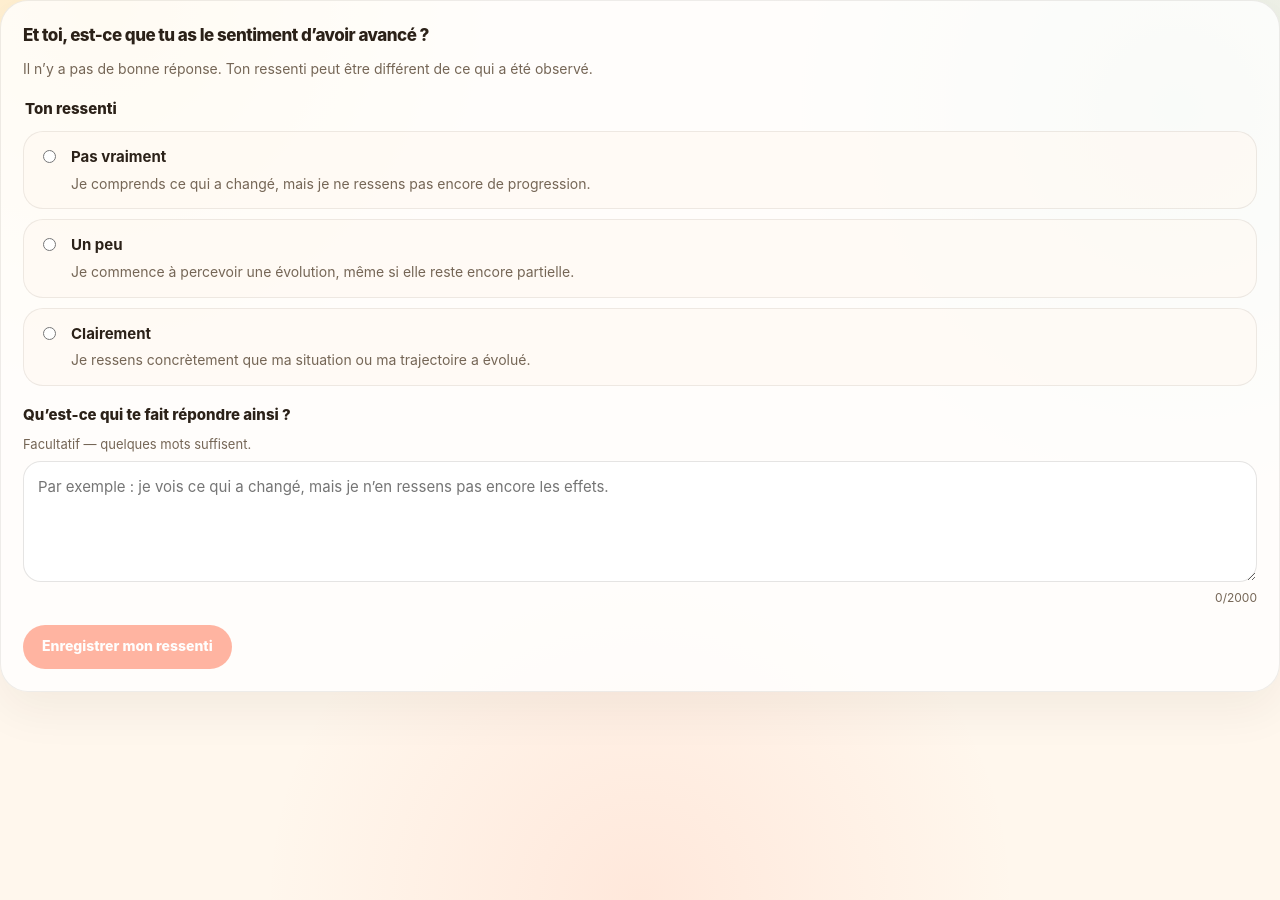
Test case: ProgressExperienceForm › surfaces submit errors locally without changing the selected response
Click the radio button labelled "Pas vraiment": (50, 156) top-left (43, 150), bottom-right (56, 163)
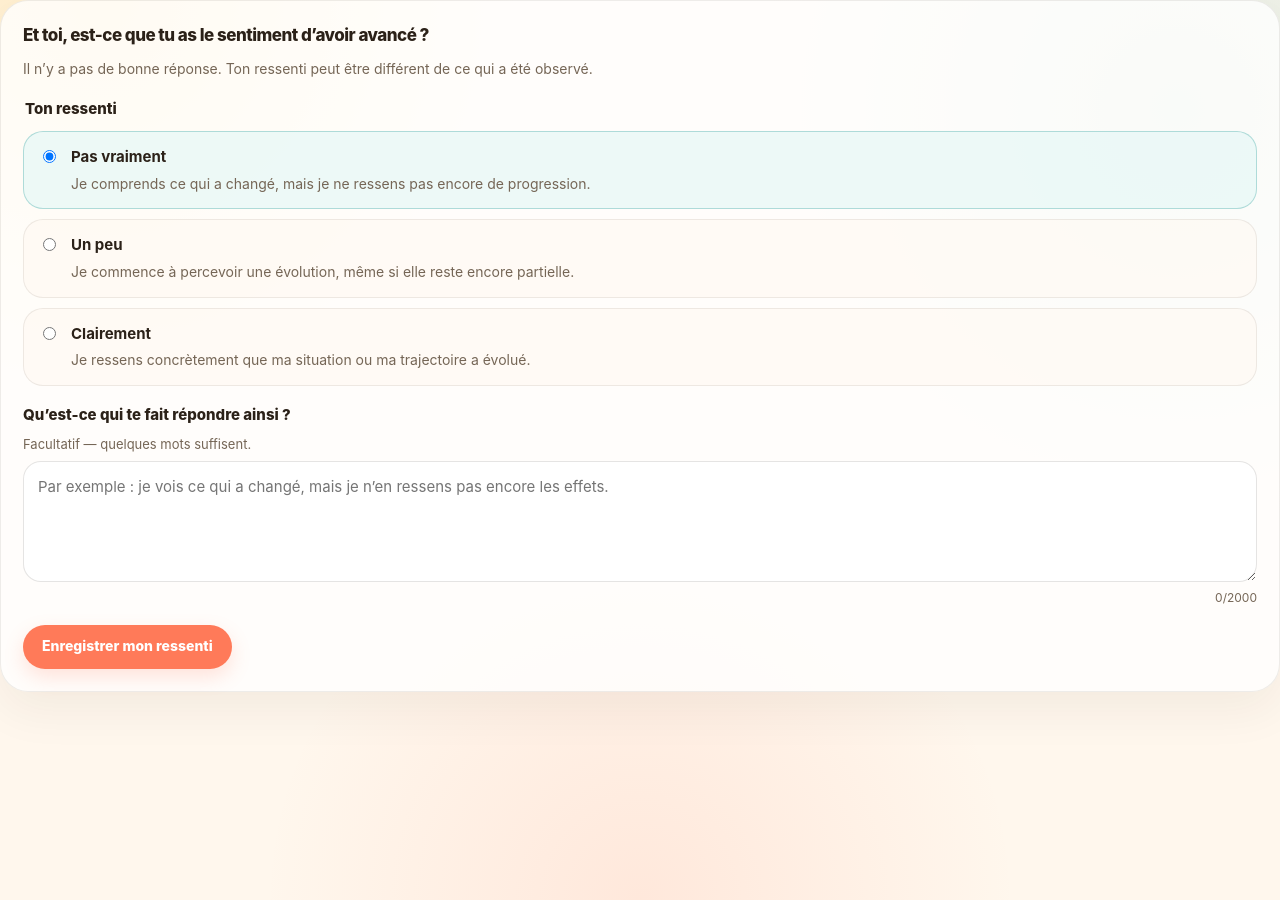
Click the button "Enregistrer mon ressenti": (127, 647) top-left (23, 625), bottom-right (232, 669)
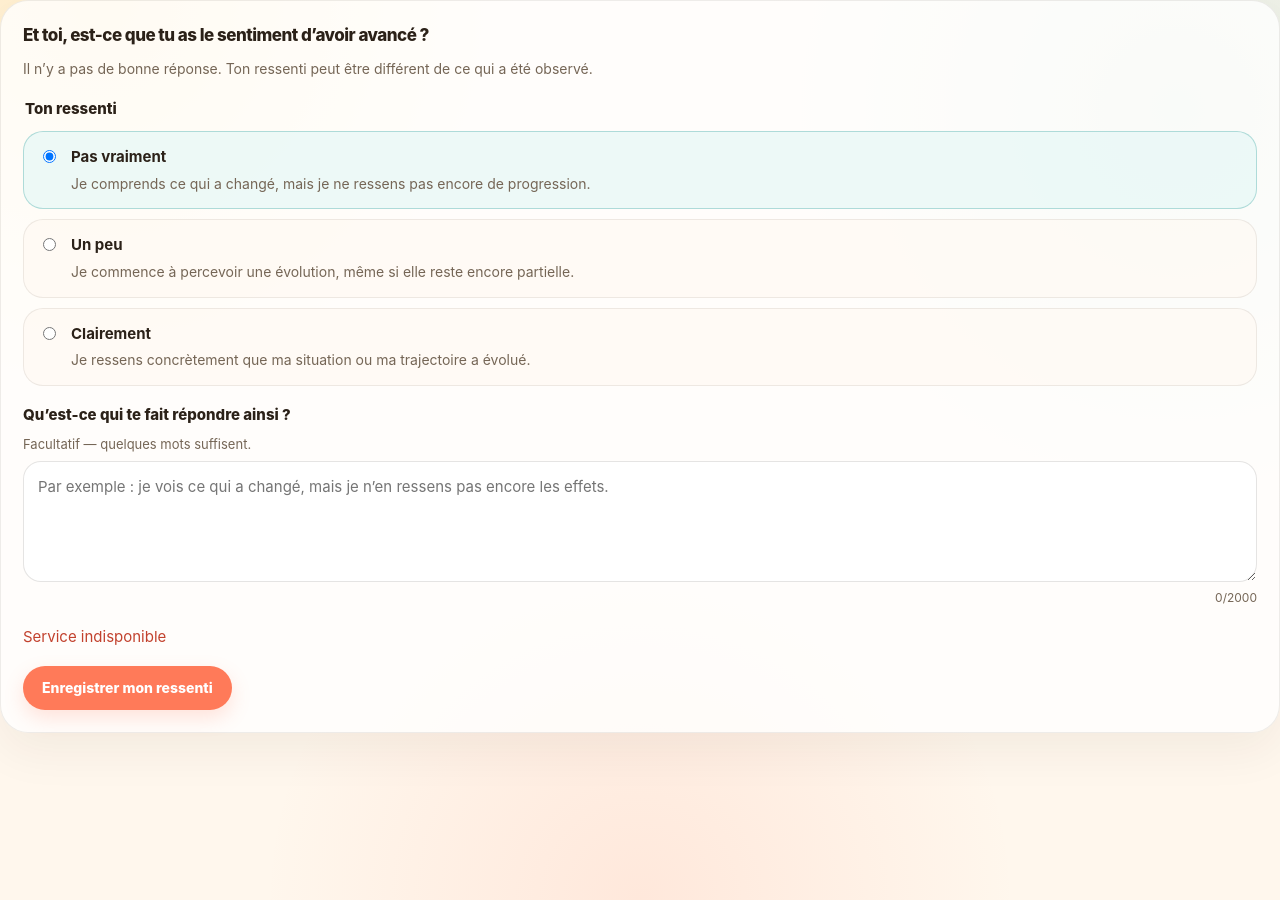
expect the radio button labelled "Pas vraiment" is checked: met, box top-left (43, 150), bottom-right (56, 163)
expect the message reads "Service indisponible": met, box top-left (23, 627), bottom-right (166, 646)
